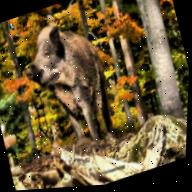boar: (5, 0, 128, 168)
